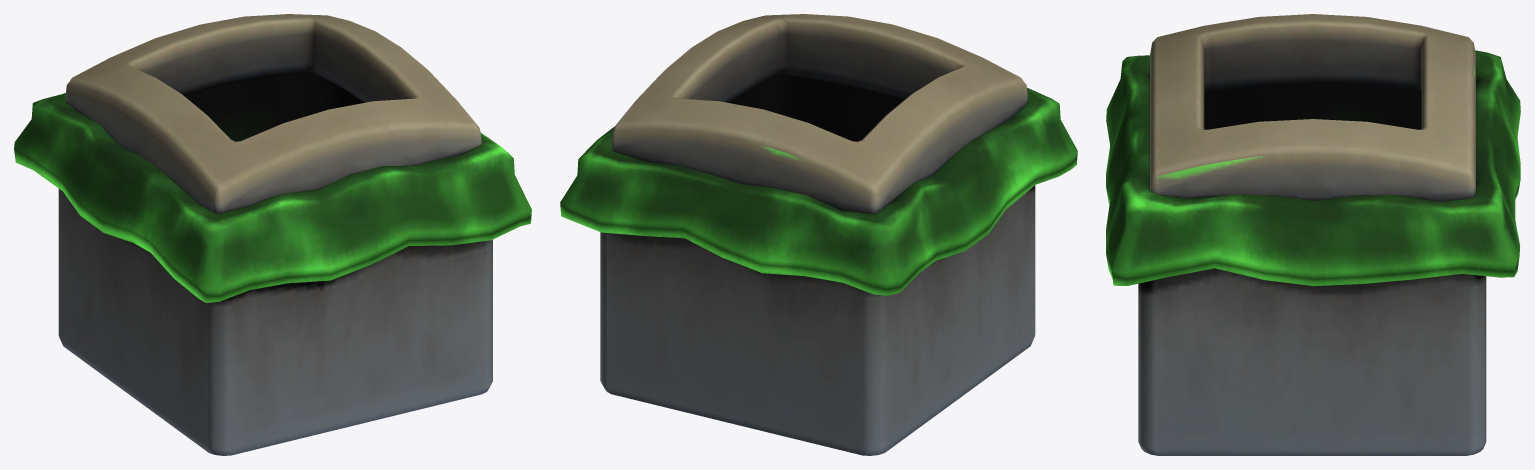
The model's file is m_dlc7_city_bin_01.fbx.
The picture shows the model from 3 angles, left to right: view 1: azimuth 30°, elevation 25°; view 2: azimuth 150°, elevation 25°; view 3: azimuth 270°, elevation 25°; orthographic projection. The views are drawn at different scales.
Parts seen in each view (by area): view 1: m_dlc7_city_bin_01_0; view 2: m_dlc7_city_bin_01_0; view 3: m_dlc7_city_bin_01_0.
Part boxes in pixels (left/top/right/bottom): m_dlc7_city_bin_01_0: left=14, top=14, right=531, bottom=455; m_dlc7_city_bin_01_0: left=560, top=14, right=1077, bottom=455; m_dlc7_city_bin_01_0: left=1106, top=14, right=1520, bottom=455.
Size of the model in its own units: 0.7275 by 0.6039 by 0.7244.
1 material, 1 textured.
